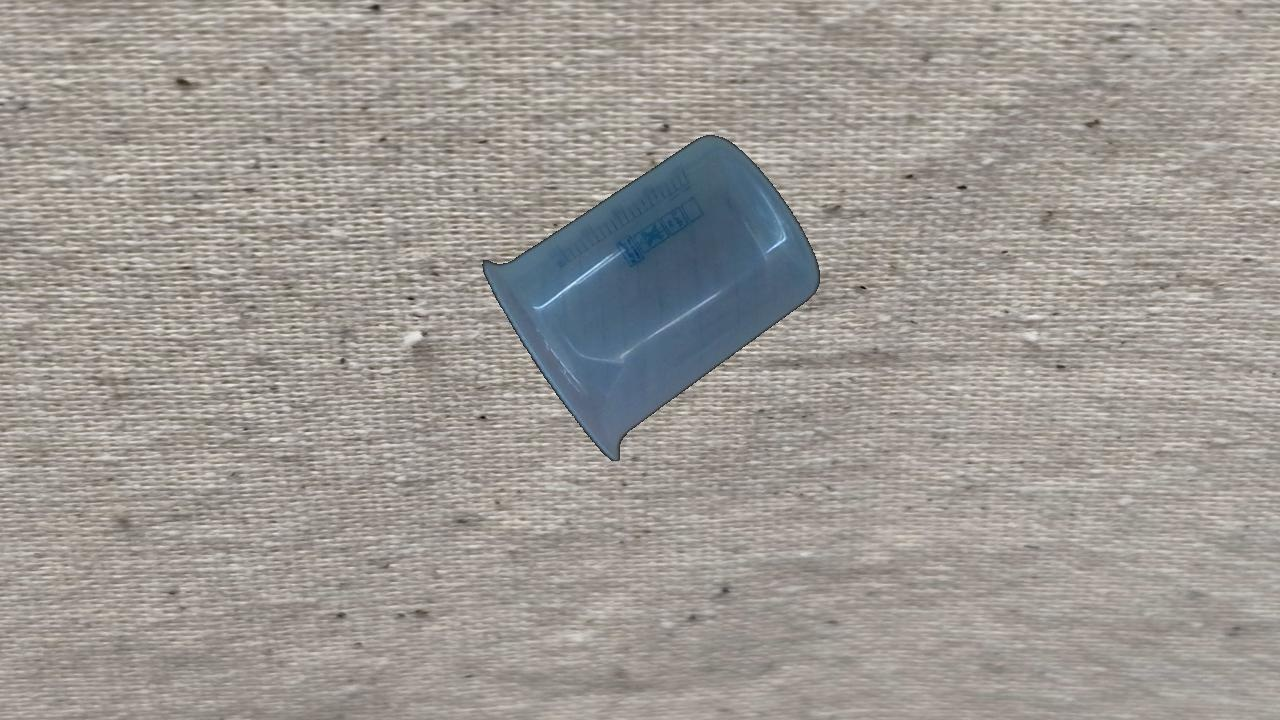cup: (482, 133, 822, 464)
